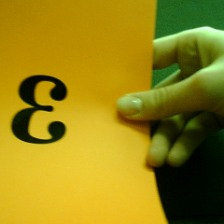orange3: (10, 69, 71, 149)
